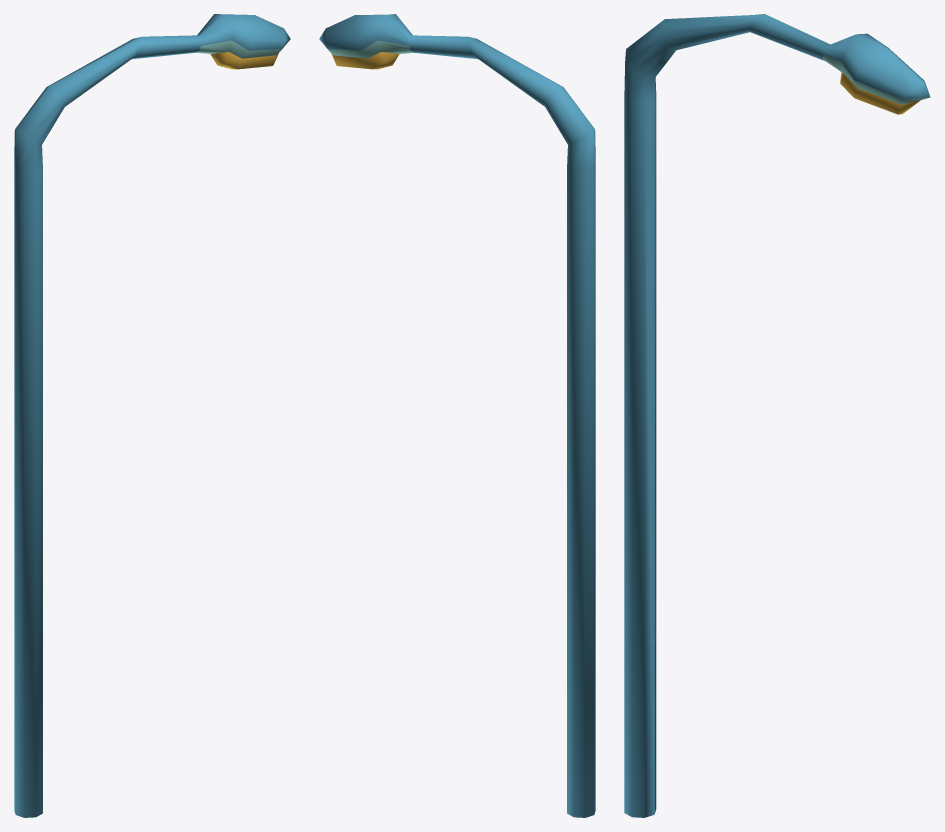
File: postelampada02 (4).fbx
The picture shows the model from 3 angles, left to right: view 1: azimuth 30°, elevation 25°; view 2: azimuth 150°, elevation 25°; view 3: azimuth 330°, elevation 25°; orthographic projection. The views are drawn at different scales.
Parts seen in each view (by area): view 1: Cylinder, Cylinder.001; view 2: Cylinder, Cylinder.001; view 3: Cylinder, Cylinder.001.
Part boxes in pixels (x1,y1,x2,y2): Cylinder: (14, 14, 290, 817); Cylinder.001: (210, 52, 278, 69); Cylinder: (319, 14, 595, 817); Cylinder.001: (331, 52, 399, 69); Cylinder: (624, 14, 930, 817); Cylinder.001: (840, 72, 920, 114).
Size of the model in its own units: 107 by 278 by 17.78.
Materials: 1 (1 with a texture image).
